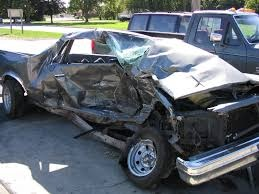Broken-glass: (174, 111, 225, 150), (107, 31, 152, 69)
Smashed: (1, 28, 258, 180)
